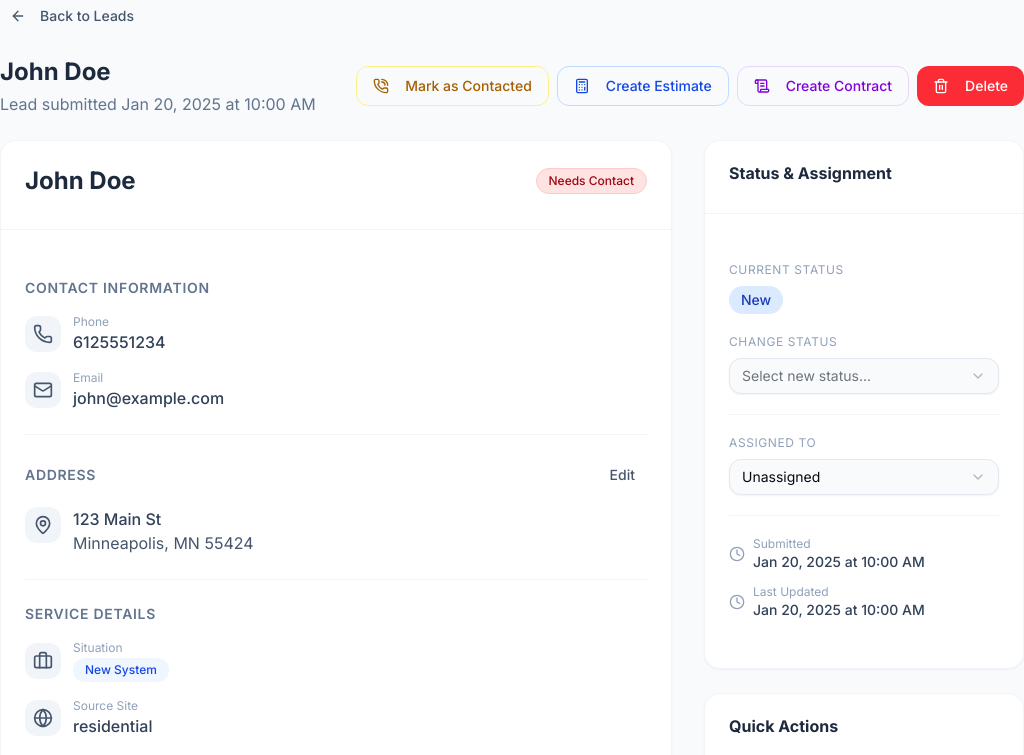
Scenario: LeadDetail › Lead Deletion › closes confirmation dialog when cancel is clicked
The image size is (1024, 755).
// Open dialog
Click the button with test id "delete-lead-btn" at (971, 86), box [917,66,1023,106]
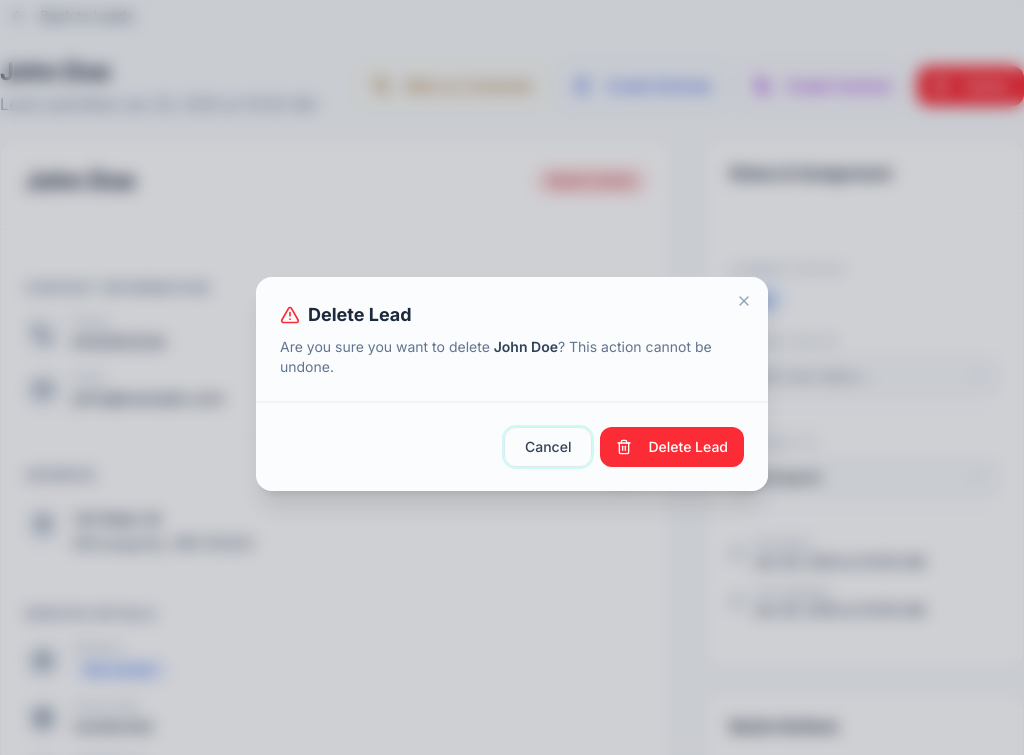
Expected: the dialog with test id "delete-confirmation-dialog" is shown, [256,277,768,491]
// Click cancel
Click the button with test id "cancel-delete-btn" at (548, 447), box [504,427,592,467]
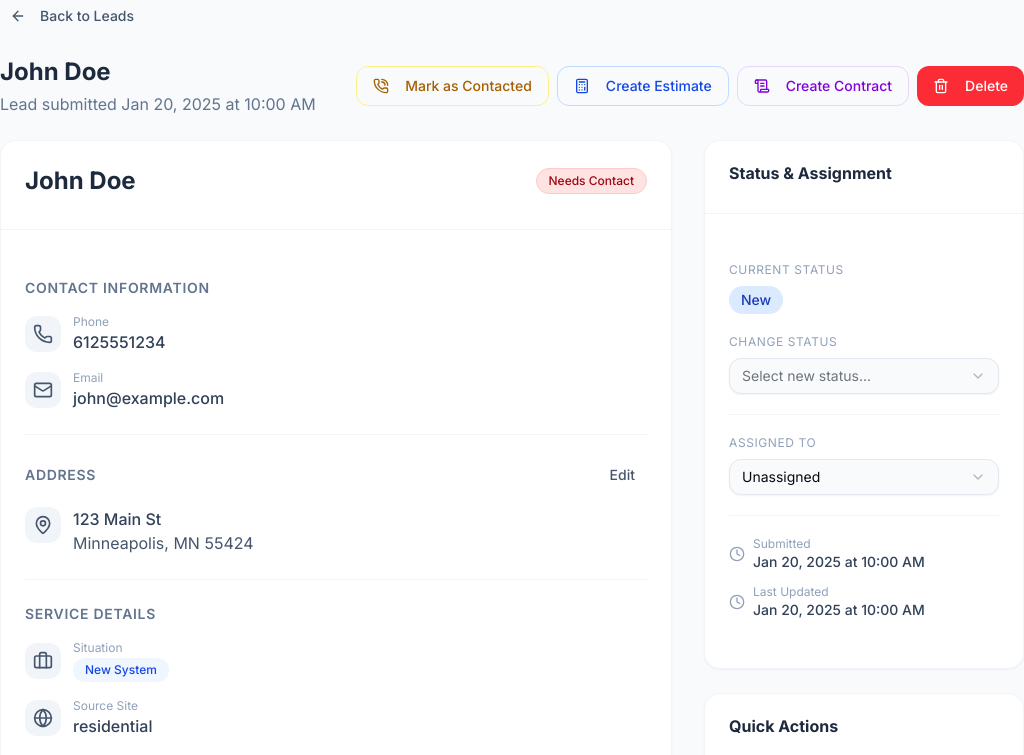
Expected: the dialog with test id "delete-confirmation-dialog" is gone
